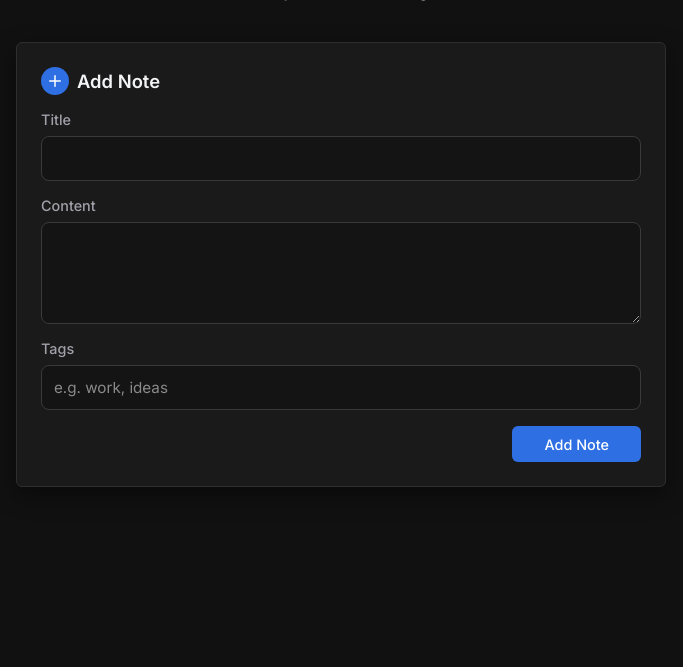
Edit note › cancels editing a note without updating it
The image size is (683, 667).
Type "test title" into the field labelled "Title" at (341,158), box [41,136,641,181]
Type "test content" into the text box labelled "Content" at (341,273), box [41,222,641,324]
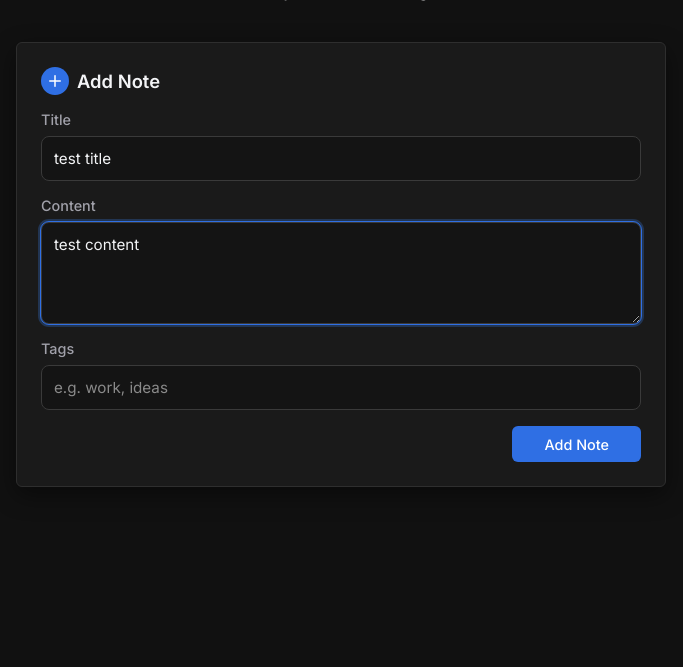
Type "test tag" into the field labelled "Tags" at (341,388), box [41,365,641,410]
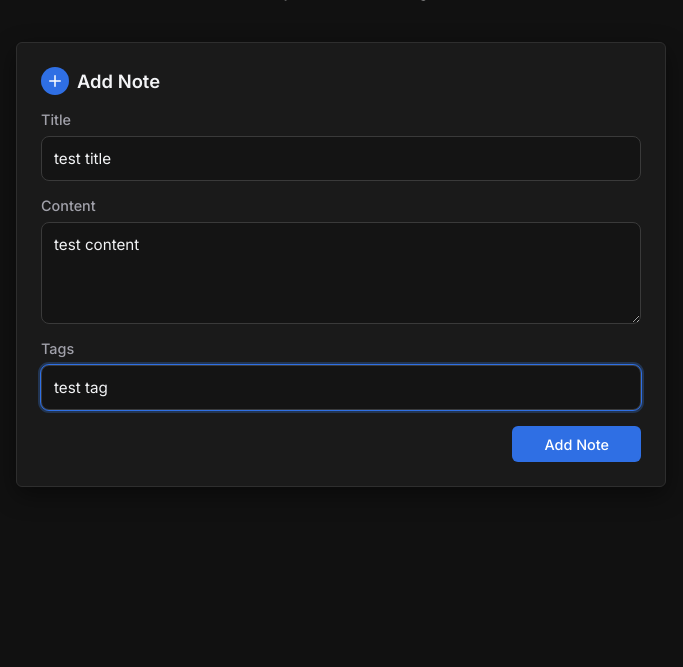
Click the button "Add Note" at (577,444), box [512,426,641,462]
(page scrolled)
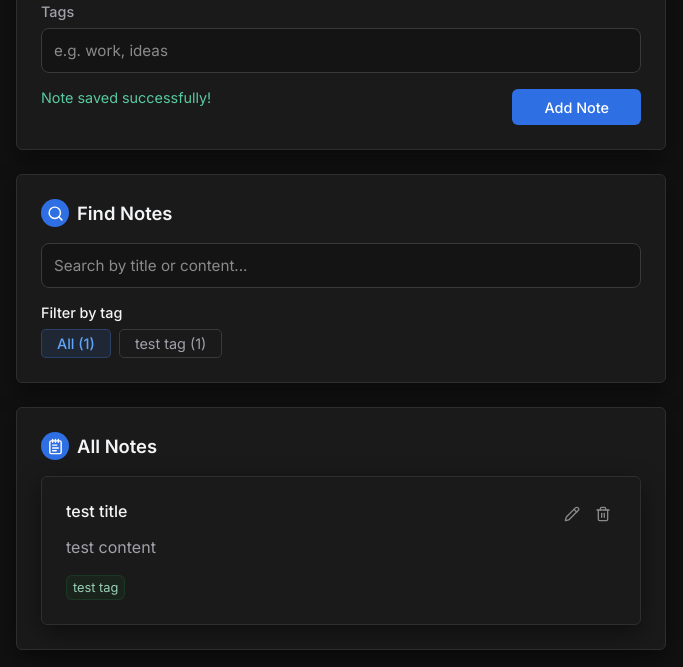
Check: the text "test title" is shown, box [66,501,127,521]
Click the button named "Edit test title" at (572,514), box [559,501,585,527]
(page scrolled)
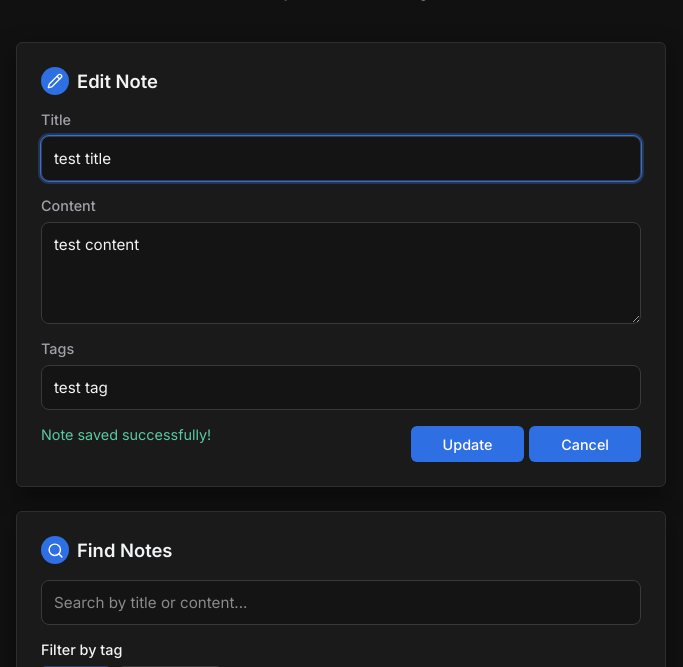
Replace the text in the field labelled "Title" with "Updated title" at (341,158), box [41,136,641,181]
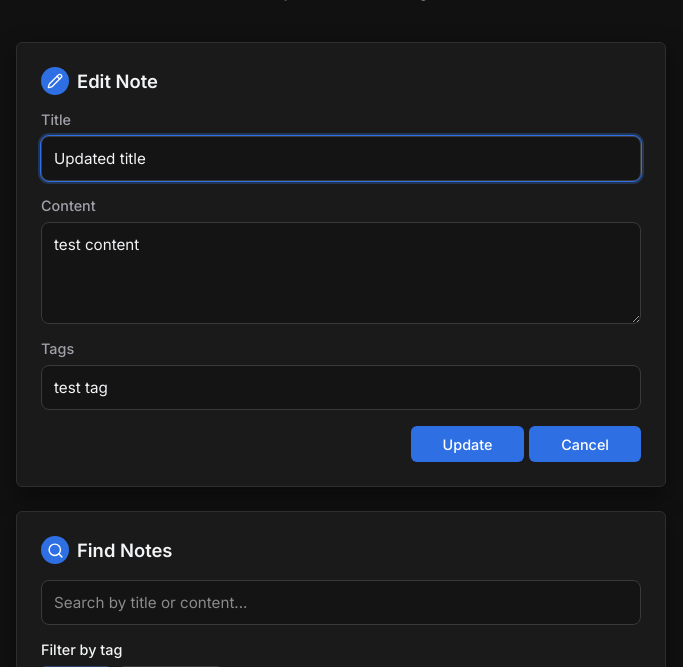
Click the button "Cancel" at (585,444), box [529,426,641,462]
(page scrolled)
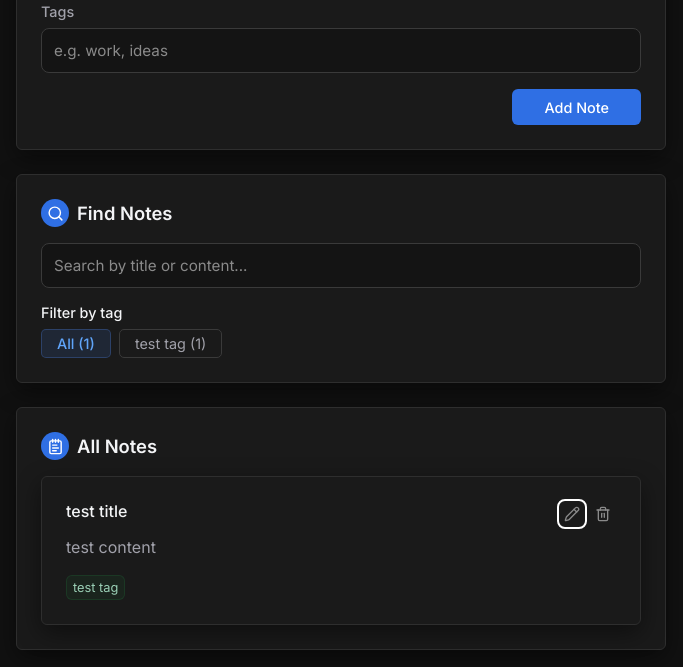
Check: the heading "test title" is shown, box [66,501,127,527]
Check: the button "Add Note" is shown, box [512,89,641,125]
Check: the button "Update" is gone
